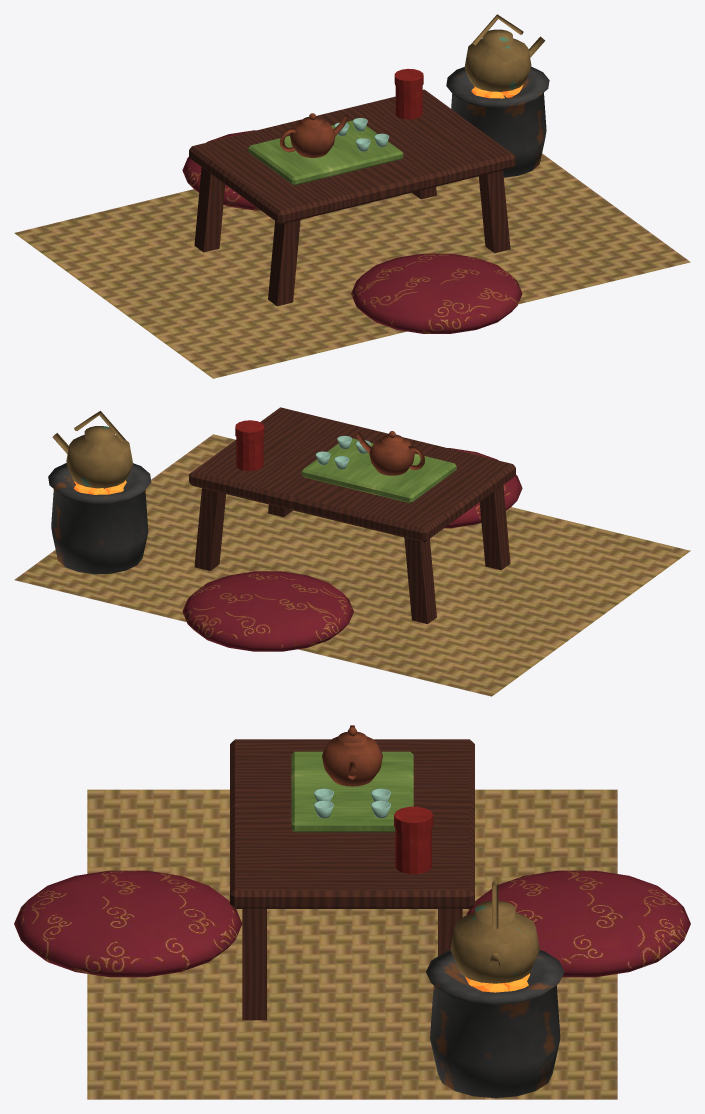
File: tea_set.glb
3 views of the same model, one above another, from view 1: azimuth 30°, elevation 25°; view 2: azimuth 150°, elevation 25°; view 3: azimuth 270°, elevation 25° (orthographic). The views are drawn at different scales.
Parts seen in each view (by area): view 1: TeaMat, TeaTable, Cushions, Brazier, TeaTray, Kettle, Teapot, TeaCaddy, TeaCups; view 2: TeaMat, TeaTable, Cushions, Brazier, TeaTray, Kettle, Teapot, TeaCaddy, TeaCups; view 3: TeaMat, Cushions, TeaTable, Brazier, TeaTray, Kettle, Teapot, TeaCaddy, TeaCups, Coals.
Boxes of the visible parts, box(x1,y1,x2,y2) form: TeaMat: box(14, 153, 690, 378); TeaTable: box(189, 89, 515, 306); Cushions: box(182, 130, 522, 333); Brazier: box(446, 66, 549, 177); TeaTray: box(248, 120, 403, 185); Kettle: box(464, 14, 545, 91); Teapot: box(280, 113, 348, 157); TeaCaddy: box(394, 68, 423, 119); TeaCups: box(334, 118, 389, 151); TeaMat: box(14, 434, 690, 696); TeaTable: box(189, 407, 515, 624); Cushions: box(182, 448, 522, 651); Brazier: box(48, 463, 151, 574); TeaTray: box(301, 438, 456, 503); Kettle: box(52, 410, 132, 488); Teapot: box(356, 431, 424, 475); TeaCaddy: box(235, 420, 264, 470); TeaCups: box(315, 435, 370, 469); TeaMat: box(87, 789, 617, 1099); Cushions: box(14, 870, 690, 977); TeaTable: box(230, 739, 474, 1020); Brazier: box(426, 950, 564, 1098); TeaTray: box(291, 751, 413, 832); Kettle: box(450, 880, 539, 983); Teapot: box(322, 725, 382, 786); TeaCaddy: box(394, 806, 433, 874); TeaCups: box(314, 788, 390, 818); Coals: box(465, 973, 530, 992).
Size of what is drawn, in the model's own units: 1.83 by 0.5337 by 1.66.
Materials: 10 (9 with a texture image).
